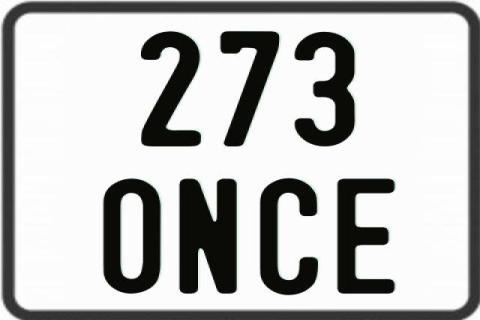0: (100, 177, 162, 296), (294, 32, 356, 150), (220, 31, 281, 149), (141, 30, 201, 146)
C: (258, 176, 319, 298)
E: (335, 177, 399, 297)
N: (178, 177, 237, 293)
